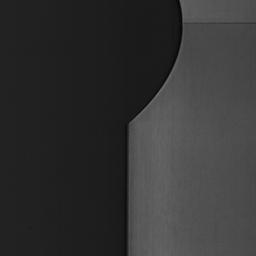Crescent gap: (130, 0, 183, 121)
